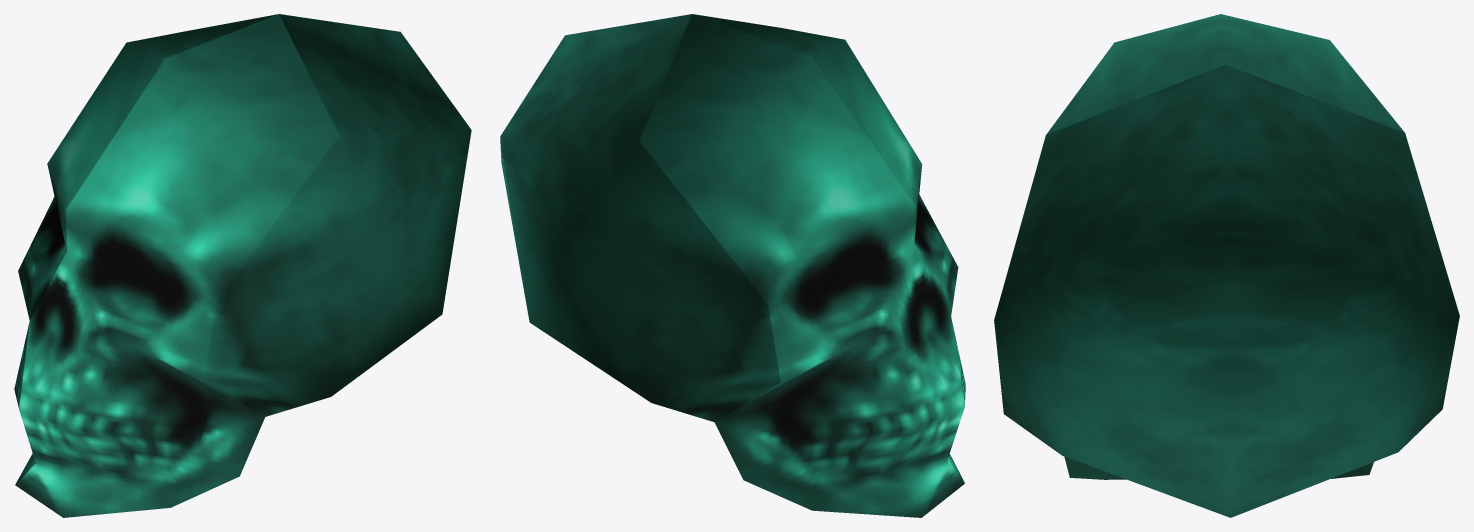
The model's file is VIFS16.obj.
3 views of the same model, side by side, from view 1: azimuth 30°, elevation 25°; view 2: azimuth 150°, elevation 25°; view 3: azimuth 270°, elevation 25° (orthographic). The views are drawn at different scales.
Visible parts, largest first — view 1: VIFS16; view 2: VIFS16; view 3: VIFS16.
Part boxes in pixels (bbox=[...]): VIFS16: bbox=[14, 14, 471, 517]; VIFS16: bbox=[500, 14, 965, 517]; VIFS16: bbox=[994, 14, 1459, 517].
Size of the model in its own units: 9.65 by 8.69 by 7.1.
